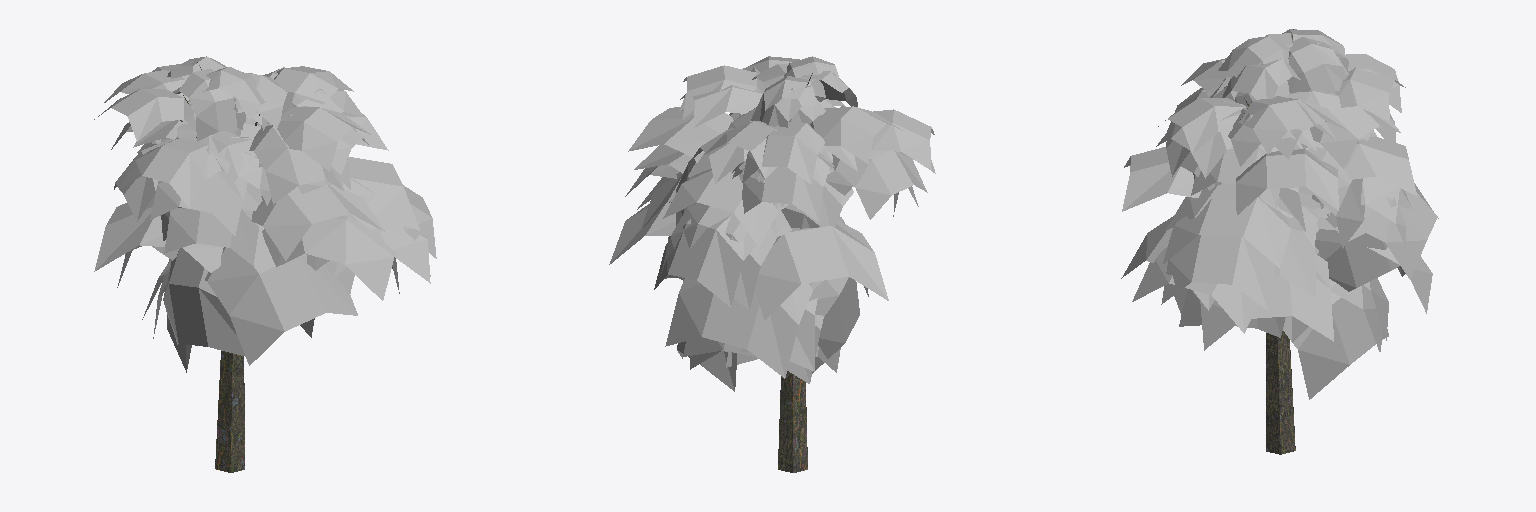
3 renders of one model, left to right at view 1: azimuth 30°, elevation 25°; view 2: azimuth 150°, elevation 25°; view 3: azimuth 270°, elevation 25°, orthographic.
Visible parts, largest first — view 1: Default; view 2: Default; view 3: Default.
Part boxes in pixels (x1,y1,x2,y2): Default: (94, 56, 436, 472); Default: (609, 56, 935, 472); Default: (1121, 29, 1438, 454).
Size of the model in its own units: 12.08 by 15.68 by 11.05.
2 materials, 1 textured.